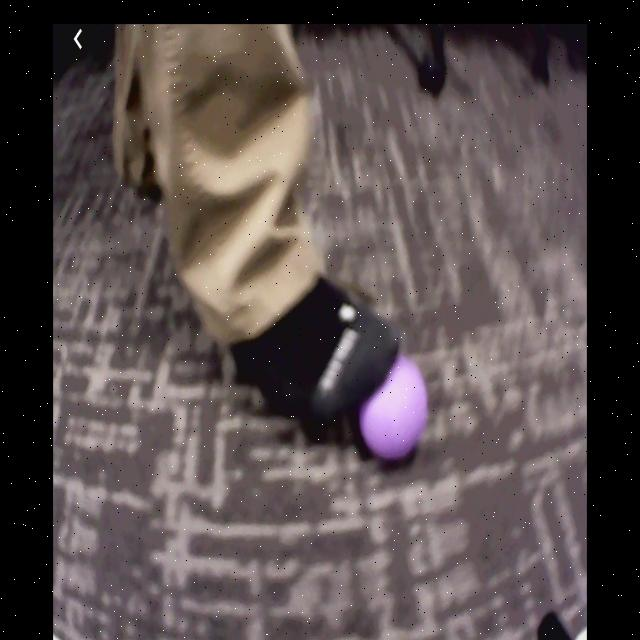ball: (360, 357, 428, 461)
